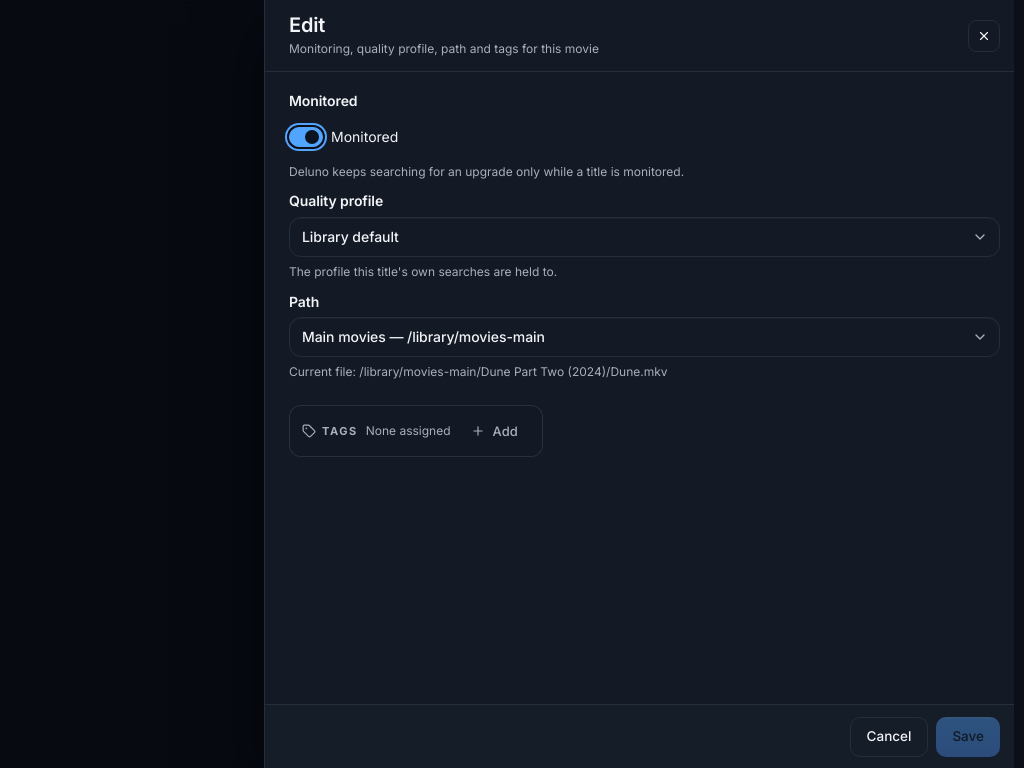
Scenario: MovieEditDrawer (#784) › a save the server refuses says Could not save these changes. and does not tell the page
Expected: the dropdown labelled "Path" is shown, [289,318,1000,358]
Click the switch at (306, 137), box [289,127,323,147]
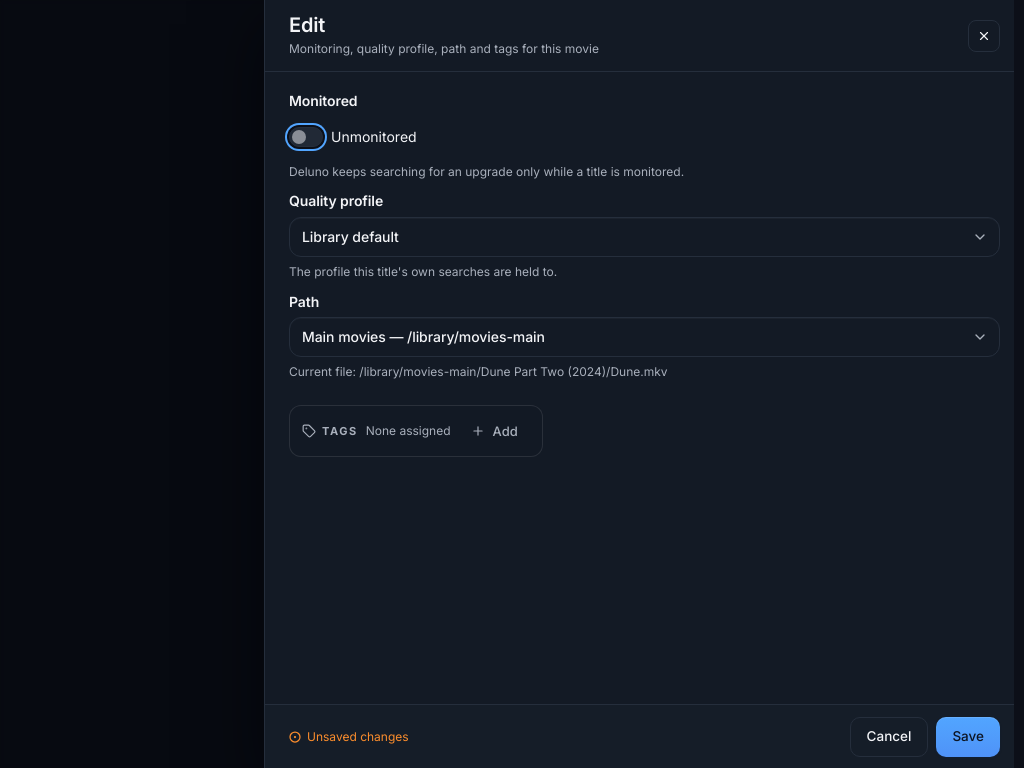
Click the button "Save" at (968, 736), box [936,716,1000,756]
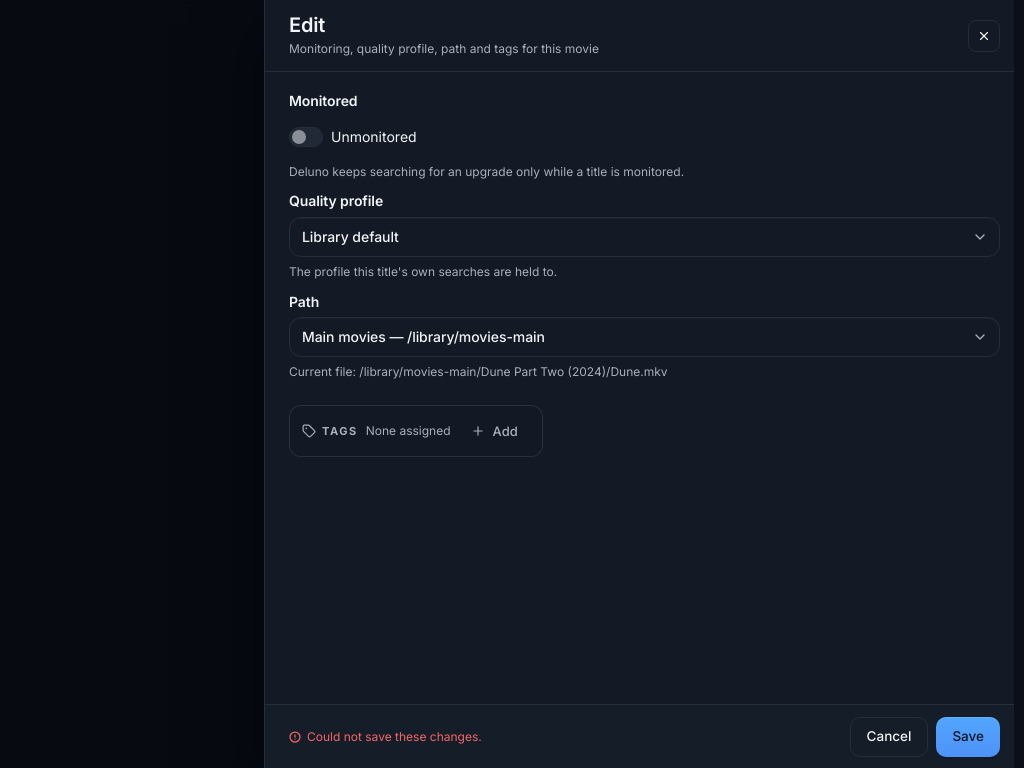
Result: the text "Could not save these changes." is shown at [307,728,482,746]
